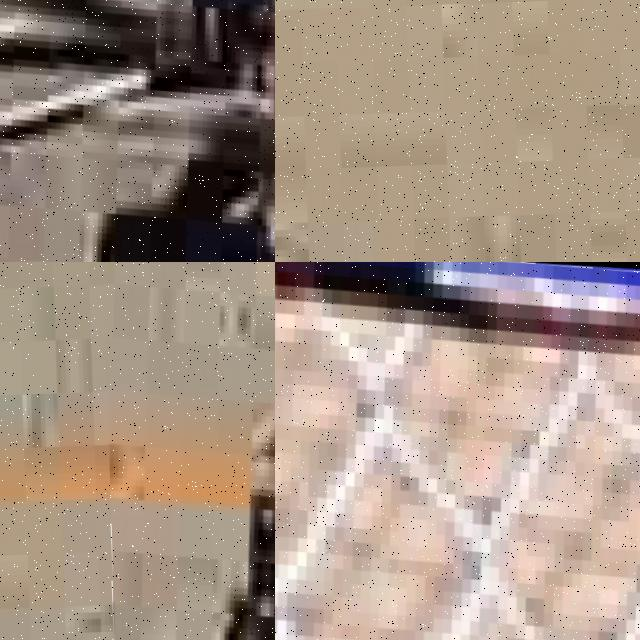0: (0, 0, 275, 262), (94, 262, 275, 640)
drone: (275, 262, 640, 640)
